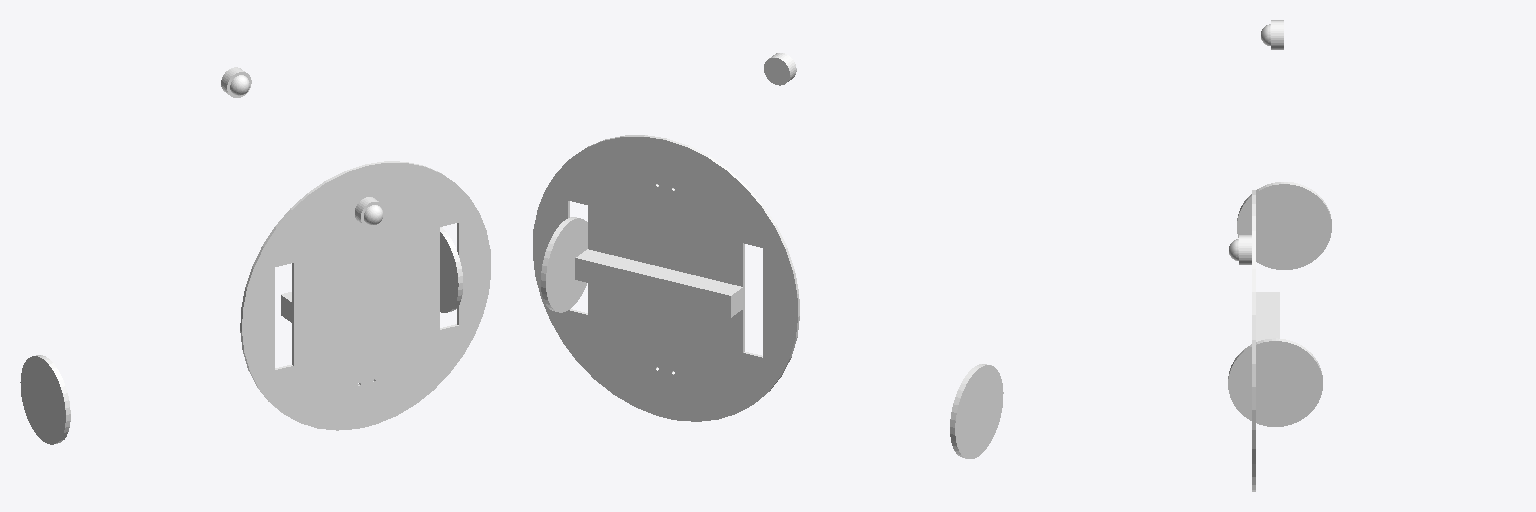
robot.urdf — Assem2 for urdf:
<robot
  name="Assem2 for urdf">
  <link
    name="main_body">
    <inertial>
      <origin
        xyz="0 0.0017218 0"
        rpy="0 0 0" />
      <mass
        value="0.24976" />
      <inertia
        ixx="0.1"
        ixy="0.1"
        ixz="0.1"
        iyy="0"
        iyz="0"
        izz="0" />
    </inertial>
    <visual>
      <origin
        xyz="0 0 0"
        rpy="0 0 0" />
      <geometry>
        <mesh
          filename="package://Assem2 for urdf/meshes/main_body.STL" />
      </geometry>
      <material
        name="">
        <color
          rgba="1 1 1 0.3" />
      </material>
    </visual>
    <collision>
      <origin
        xyz="0 0 0"
        rpy="0 0 0" />
      <geometry>
        <mesh
          filename="package://Assem2 for urdf/meshes/main_body.STL" />
      </geometry>
    </collision>
  </link>
  <link
    name="left">
    <inertial>
      <origin
        xyz="0.1656 -8.6736E-19 0"
        rpy="0 0 0" />
      <mass
        value="0.025635" />
      <inertia
        ixx="0.01"
        ixy="0.01"
        ixz="1"
        iyy="0"
        iyz="0"
        izz="0" />
    </inertial>
    <visual>
      <origin
        xyz="0 0 0"
        rpy="0 0 0" />
      <geometry>
        <mesh
          filename="package://Assem2 for urdf/meshes/left.STL" />
      </geometry>
      <material
        name="">
        <color
          rgba="1 1 1 1" />
      </material>
    </visual>
    <collision>
      <origin
        xyz="0 0 0"
        rpy="0 0 0" />
      <geometry>
        <mesh
          filename="package://Assem2 for urdf/meshes/left.STL" />
      </geometry>
    </collision>
  </link>
  <joint
    name="left_cont"
    type="continuous">
    <origin
      xyz="-0.081549 0.01631 0"
      rpy="0 0 0" />
    <parent
      link="main_body" />
    <child
      link="left" />
    <axis
      xyz="1 0 0" />
    <limit
      effort="0"
      velocity="5" />
  </joint>
  <link
    name="right">
    <inertial>
      <origin
        xyz="-0.1706 0 2.7756E-17"
        rpy="0 0 0" />
      <mass
        value="0.025635" />
      <inertia
        ixx="0.01"
        ixy="0.01"
        ixz="0.01"
        iyy="0"
        iyz="0"
        izz="0" />
    </inertial>
    <visual>
      <origin
        xyz="0 0 0"
        rpy="0 0 0" />
      <geometry>
        <mesh
          filename="package://Assem2 for urdf/meshes/right.STL" />
      </geometry>
      <material
        name="">
        <color
          rgba="1 1 1 1" />
      </material>
    </visual>
    <collision>
      <origin
        xyz="0 0 0"
        rpy="0 0 0" />
      <geometry>
        <mesh
          filename="package://Assem2 for urdf/meshes/right.STL" />
      </geometry>
    </collision>
  </link>
  <joint
    name="right_cont"
    type="continuous">
    <origin
      xyz="0.086549 0.01631 0"
      rpy="0 0 0" />
    <parent
      link="main_body" />
    <child
      link="right" />
    <axis
      xyz="1 0 0" />
    <limit
      effort="0"
      velocity="5" />
  </joint>
  <link
    name="front">
    <inertial>
      <origin
        xyz="-2.2204E-16 -0.0074972 0.16764"
        rpy="0 0 0" />
      <mass
        value="0.0091708" />
      <inertia
        ixx="5.4999E-08"
        ixy="1.5265E-22"
        ixz="0"
        iyy="3.8827E-36"
        iyz="0"
        izz="5.4999E-08" />
    </inertial>
    <visual>
      <origin
        xyz="0 0 0"
        rpy="0 0 0" />
      <geometry>
        <mesh
          filename="package://Assem2 for urdf/meshes/front.STL" />
      </geometry>
      <material
        name="">
        <color
          rgba="1 1 1 1" />
      </material>
    </visual>
    <collision>
      <origin
        xyz="0 0 0"
        rpy="0 0 0" />
      <geometry>
        <mesh
          filename="package://Assem2 for urdf/meshes/front.STL" />
      </geometry>
    </collision>
  </link>
  <joint
    name="front_fixed"
    type="fixed">
    <origin
      xyz="0 -0.003175 -0.08382"
      rpy="0 0 0" />
    <parent
      link="main_body" />
    <child
      link="front" />
    <axis
      xyz="0 0 0" />
    <limit
      effort="0"
      velocity="0" />
  </joint>
  <link
    name="rear">
    <inertial>
      <origin
        xyz="1.8041E-16 -0.0074972 -0.16764"
        rpy="0 0 0" />
      <mass
        value="0.0091708" />
      <inertia
        ixx="5.4999E-08"
        ixy="1.5265E-22"
        ixz="9.8869E-36"
        iyy="3.2142E-35"
        iyz="-3.9497E-36"
        izz="5.4999E-08" />
    </inertial>
    <visual>
      <origin
        xyz="0 0 0"
        rpy="0 0 0" />
      <geometry>
        <mesh
          filename="package://Assem2 for urdf/meshes/rear.STL" />
      </geometry>
      <material
        name="">
        <color
          rgba="1 1 1 1" />
      </material>
    </visual>
    <collision>
      <origin
        xyz="0 0 0"
        rpy="0 0 0" />
      <geometry>
        <mesh
          filename="package://Assem2 for urdf/meshes/rear.STL" />
      </geometry>
    </collision>
  </link>
  <joint
    name="rear_fixed"
    type="fixed">
    <origin
      xyz="0 -0.003175 0.08382"
      rpy="0 0 0" />
    <parent
      link="main_body" />
    <child
      link="rear" />
    <axis
      xyz="0 0 0" />
    <limit
      effort="0"
      velocity="0" />
  </joint>
</robot>

--- What the picture shows (computed from the rendered views, not written in the file) ---
The picture shows the robot from 3 angles, left to right: view 1: azimuth 30°, elevation 25°; view 2: azimuth 150°, elevation 25°; view 3: azimuth 270°, elevation 25°; orthographic projection.
Model Assem2 for urdf with 5 links and 4 joints (2 continuous, 2 fixed), rooted at main_body, posed every joint at zero.
Links seen in each view (by area): view 1: main_body, right, left, rear, front; view 2: main_body, right, left, rear; view 3: left, right, main_body, front, rear.
Link boxes in pixels (x1,y1,x2,y2): main_body: [240, 161, 490, 430]; right: [20, 355, 70, 444]; left: [440, 227, 462, 312]; rear: [221, 67, 251, 97]; front: [355, 197, 384, 227]; main_body: [533, 135, 799, 421]; right: [950, 364, 1003, 458]; left: [541, 217, 587, 312]; rear: [764, 53, 796, 85]; left: [1228, 338, 1322, 426]; right: [1237, 182, 1331, 269]; main_body: [1252, 190, 1279, 491]; front: [1229, 235, 1251, 264]; rear: [1261, 20, 1283, 49].
Size in the robot's own frame: 0.4405 by 0.0874 by 0.3665 metres.
5 mesh visuals loaded from 5 distinct referenced files (5 binary STL).
